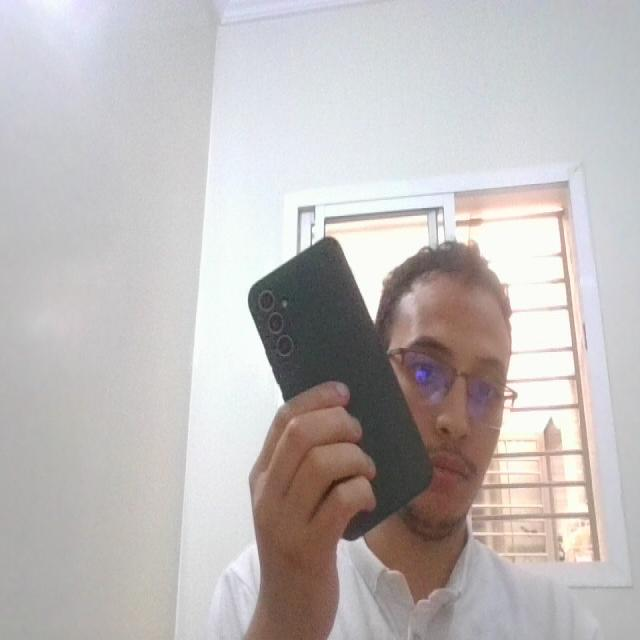phone: (234, 233, 440, 548)
